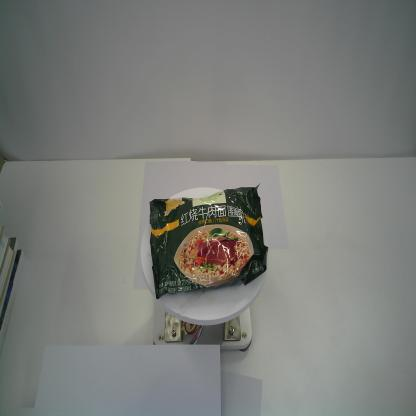Instant Noodles: (147, 182, 269, 299)
